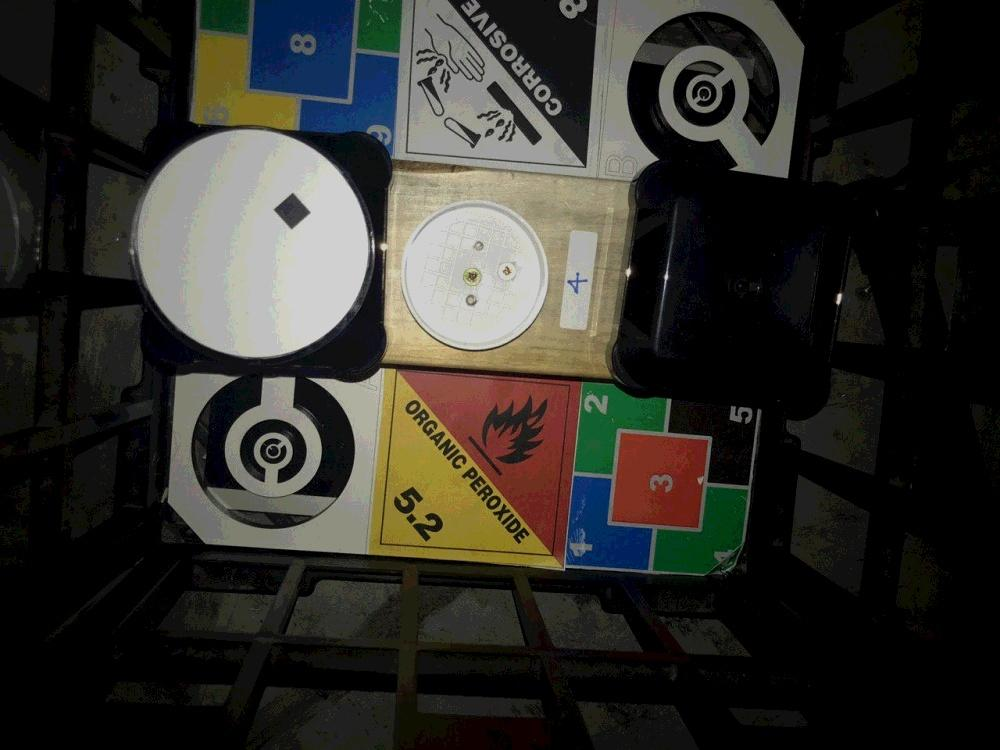corrosive: (398, 1, 600, 170)
organic-peroxide: (371, 372, 578, 562)
